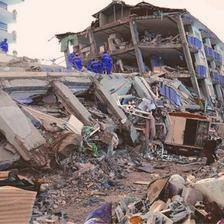Destroyed_Building: (0, 0, 224, 182)
